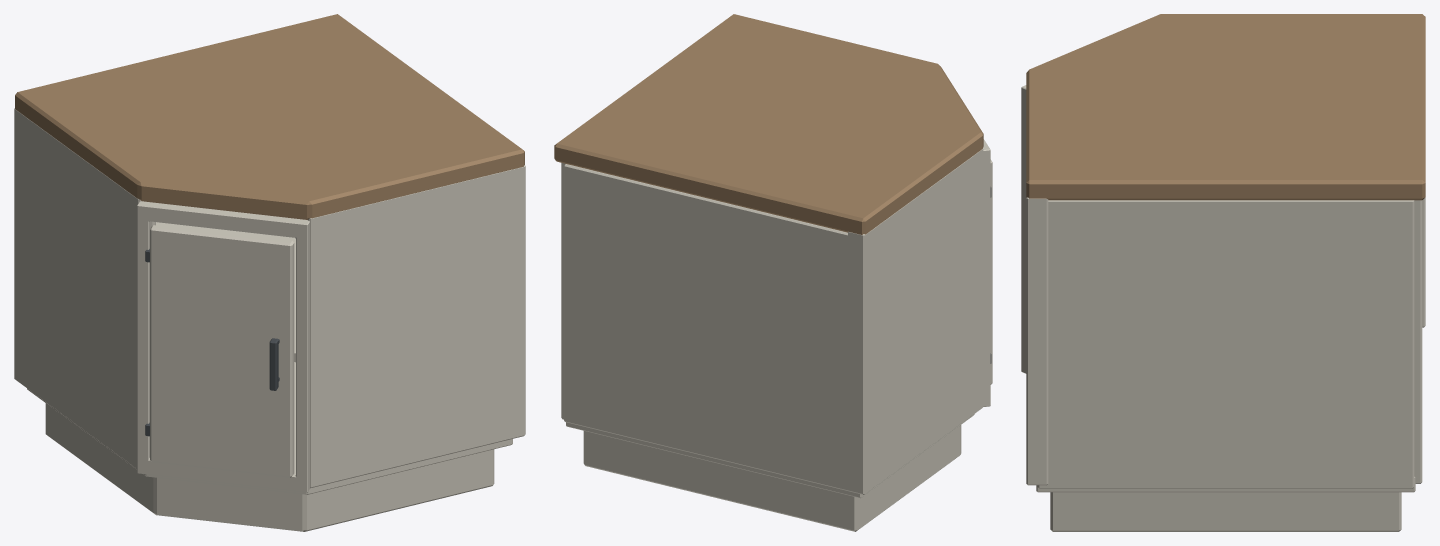
3 renders of one model, left to right at view 1: azimuth 30°, elevation 25°; view 2: azimuth 150°, elevation 25°; view 3: azimuth 270°, elevation 25°, orthographic. The views are drawn at different scales.
Visible parts, largest first — view 1: Corner complete countertop, Right return side, Fixed diagonal door, Left return side, Corner recessed plinth, Continuous front frame, Corner cabinet floor, Corner shelf; view 2: Rear Y wall, Corner complete countertop, Left return side, Corner recessed plinth, Continuous front frame, Corner cabinet floor, Rear X wall, Fixed diagonal door; view 3: Rear X wall, Corner complete countertop, Corner recessed plinth, Right return side, Rear Y wall, Corner cabinet floor, Continuous front frame, Left return side.
Boxes of the visible parts, <box> form: Corner complete countertop: <box>15,14,524,219</box>; Right return side: <box>308,165,525,488</box>; Fixed diagonal door: <box>150,225,294,477</box>; Left return side: <box>14,108,155,468</box>; Corner recessed plinth: <box>45,403,494,531</box>; Continuous front frame: <box>137,201,310,492</box>; Corner cabinet floor: <box>27,362,512,494</box>; Corner shelf: <box>156,222,295,362</box>; Rear Y wall: <box>564,164,848,491</box>; Corner complete countertop: <box>554,14,983,234</box>; Left return side: <box>848,148,983,494</box>; Corner recessed plinth: <box>583,425,961,531</box>; Continuous front frame: <box>983,139,990,406</box>; Corner cabinet floor: <box>566,414,974,498</box>; Rear X wall: <box>561,163,565,419</box>; Fixed diagonal door: <box>990,159,992,384</box>; Rear X wall: <box>1037,200,1414,488</box>; Corner complete countertop: <box>1026,14,1425,200</box>; Corner recessed plinth: <box>1050,492,1401,531</box>; Right return side: <box>1026,197,1048,485</box>; Rear Y wall: <box>1414,200,1422,483</box>; Corner cabinet floor: <box>1036,477,1415,492</box>; Continuous front frame: <box>1021,85,1026,373</box>; Left return side: <box>1422,197,1425,327</box>.
Size of the model in its own units: 0.911 by 0.9 by 0.911.
